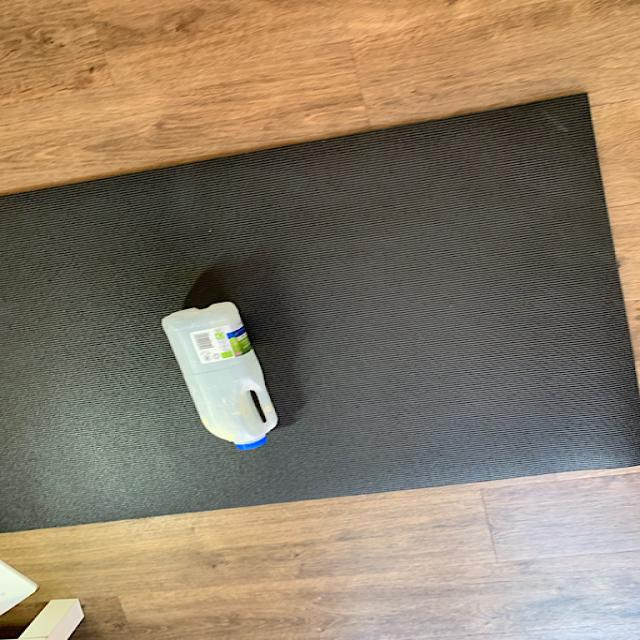litter: (162, 302, 282, 449)
